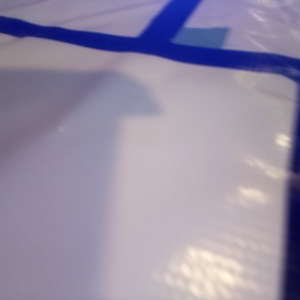top_right: (146, 27, 229, 53)
